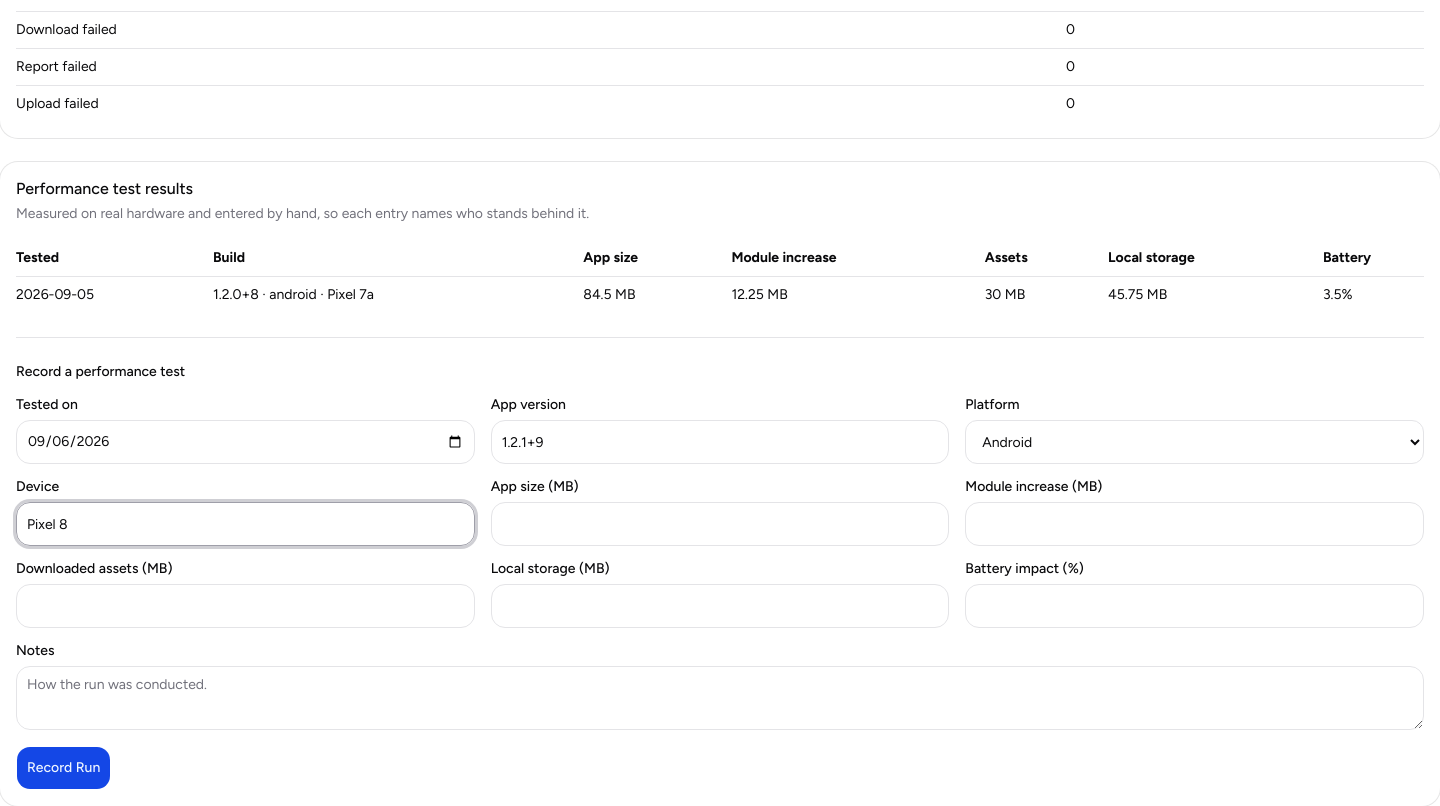
TechnicalDashboard › refuses a battery impact above a full charge
The image size is (1440, 806).
Earlier steps of the test are not shown.
(page scrolled)
Type "85" into the number field labelled "App size (MB)" at (720, 524), box [491,502,949,546]
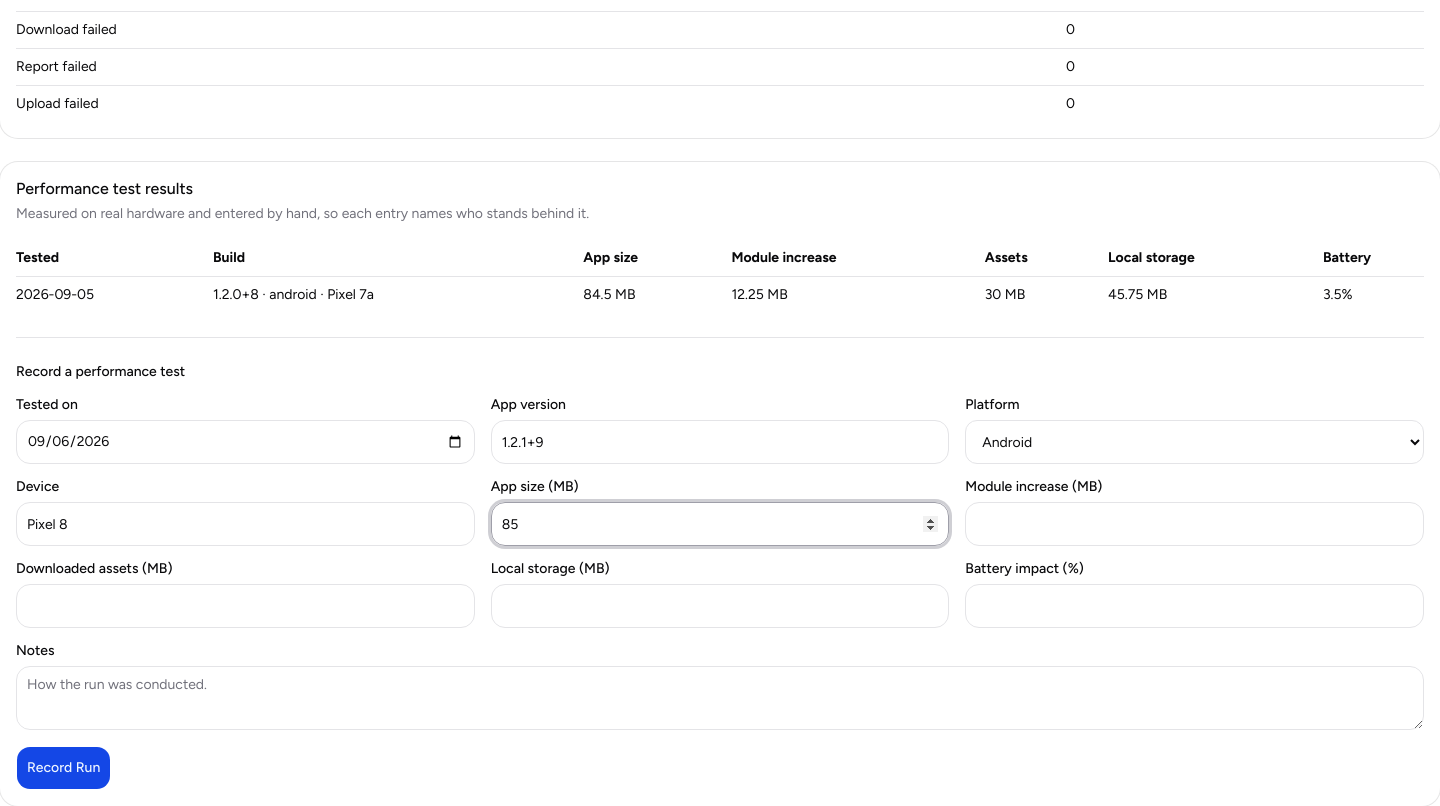
Type "12" into the number field labelled "Module increase (MB)" at (1195, 524), box [965,502,1424,546]
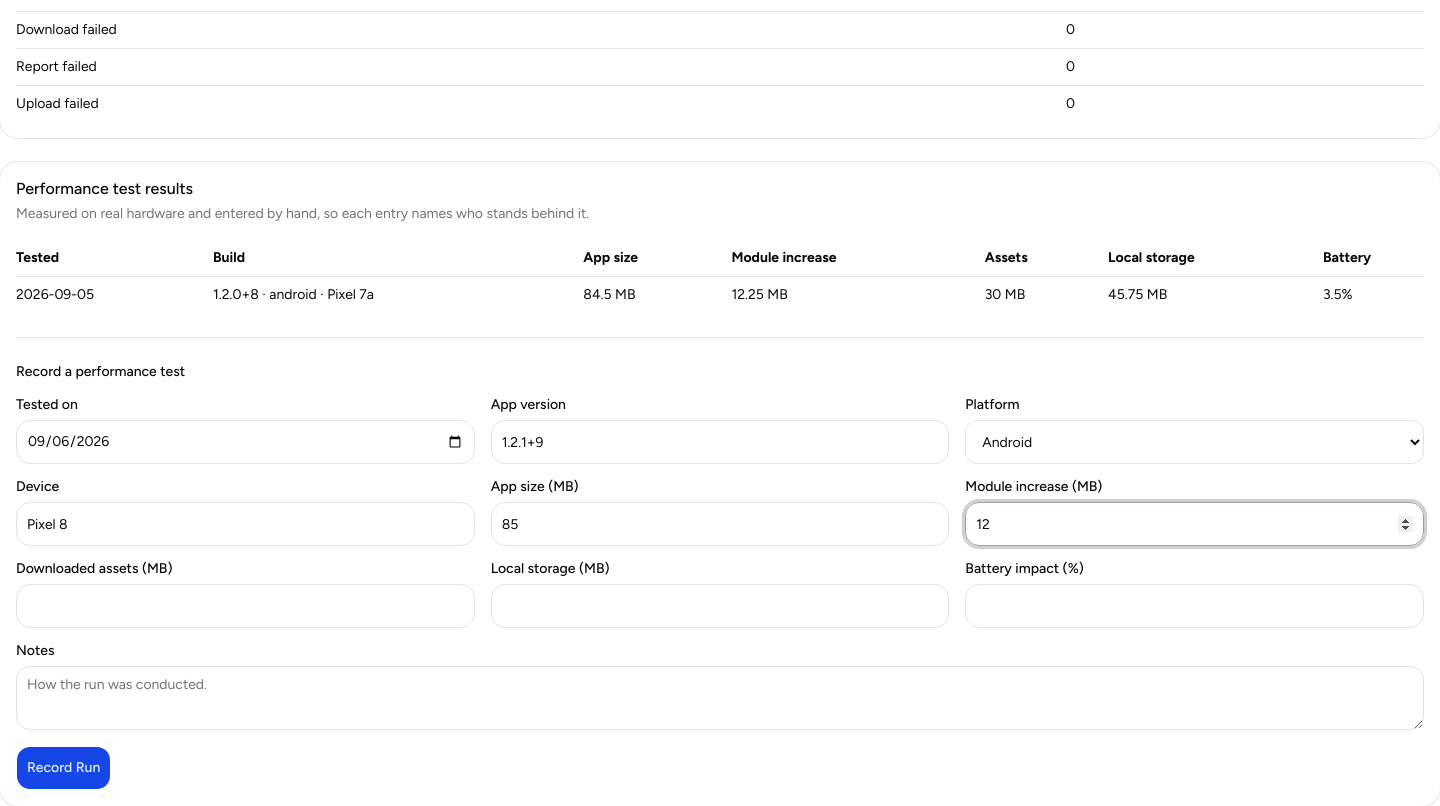
Type "30" into the number field labelled "Downloaded assets (MB)" at (245, 606), box [16,584,475,628]
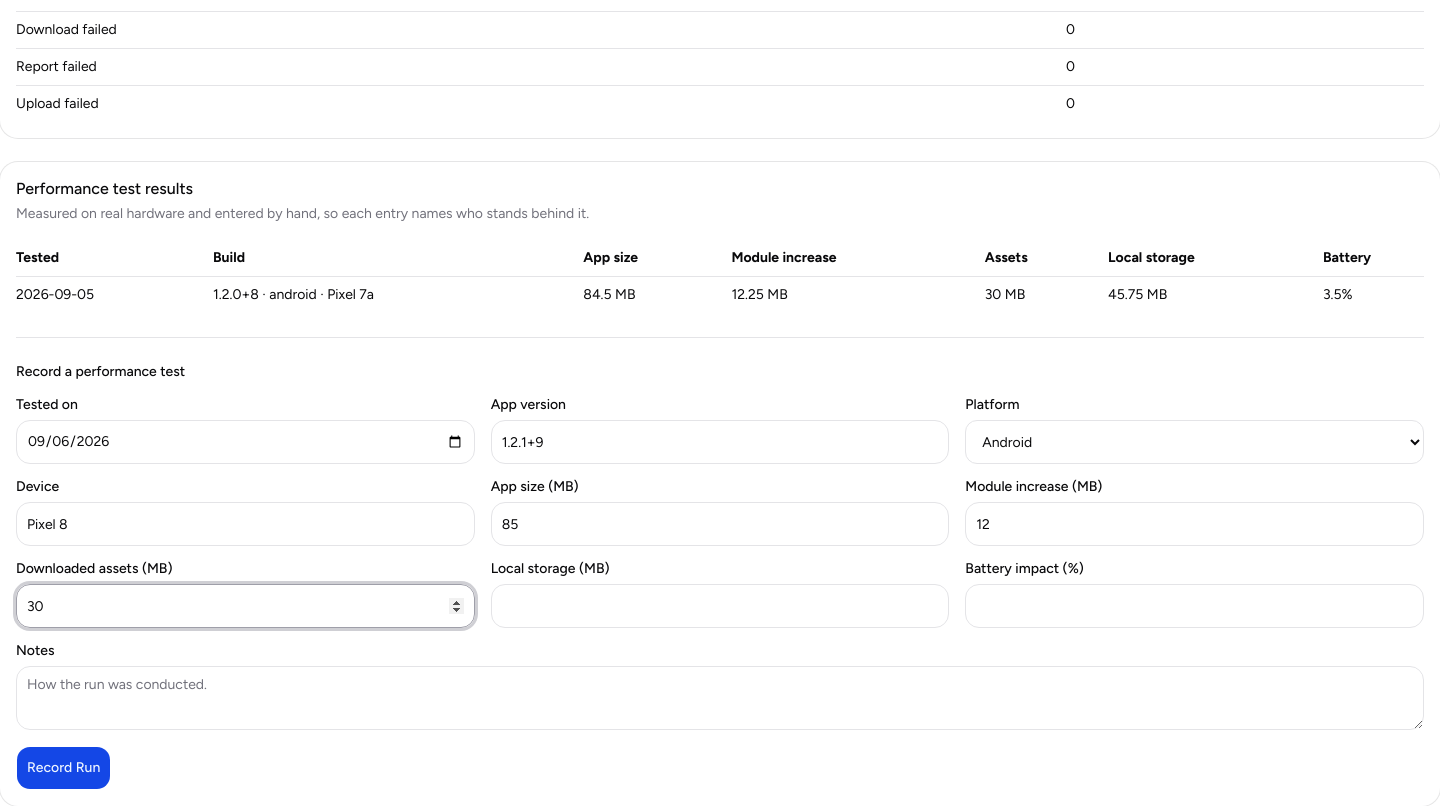
Type "40" into the number field labelled "Local storage (MB)" at (720, 606), box [491,584,949,628]
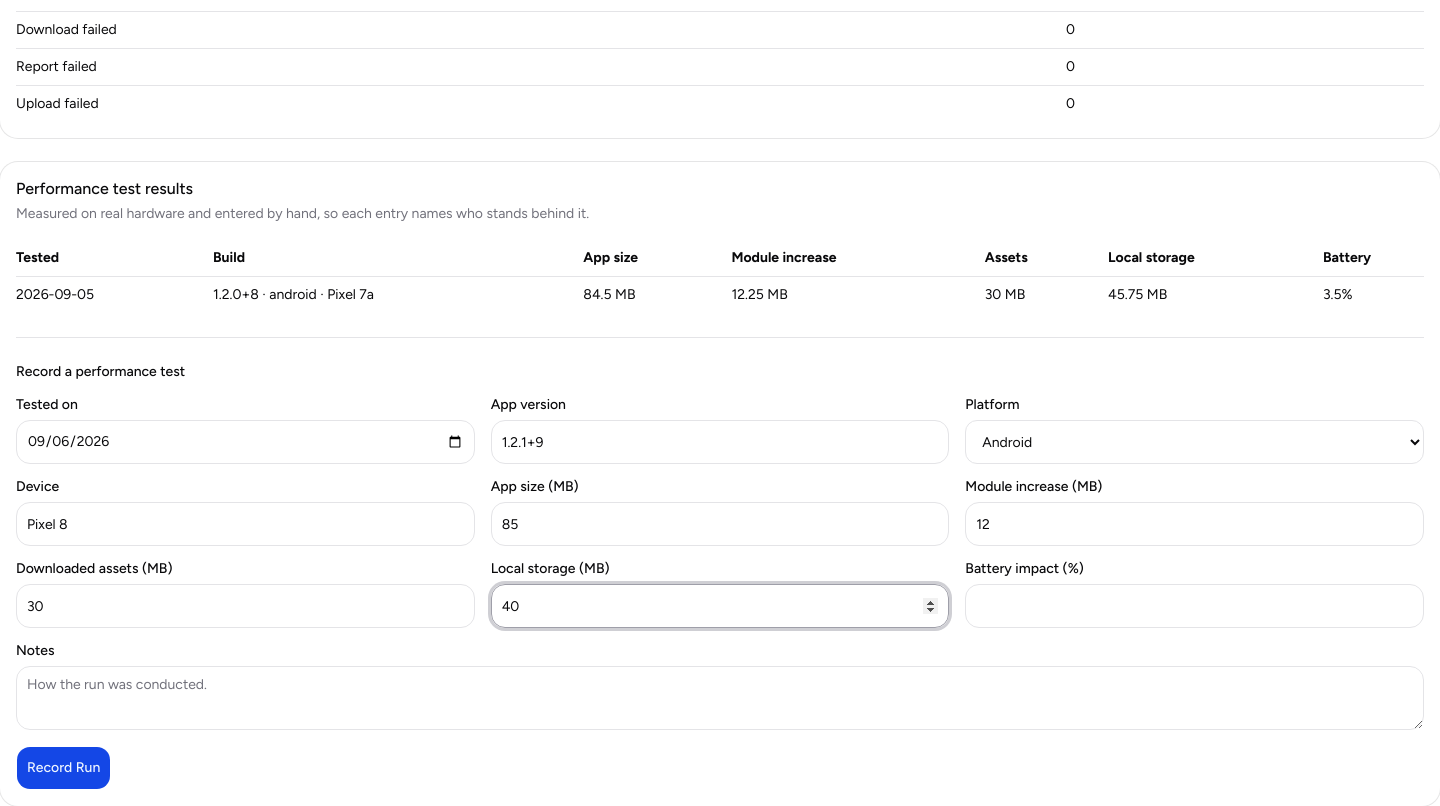
Type "140" into the number field labelled "Battery impact (%)" at (1195, 606), box [965,584,1424,628]
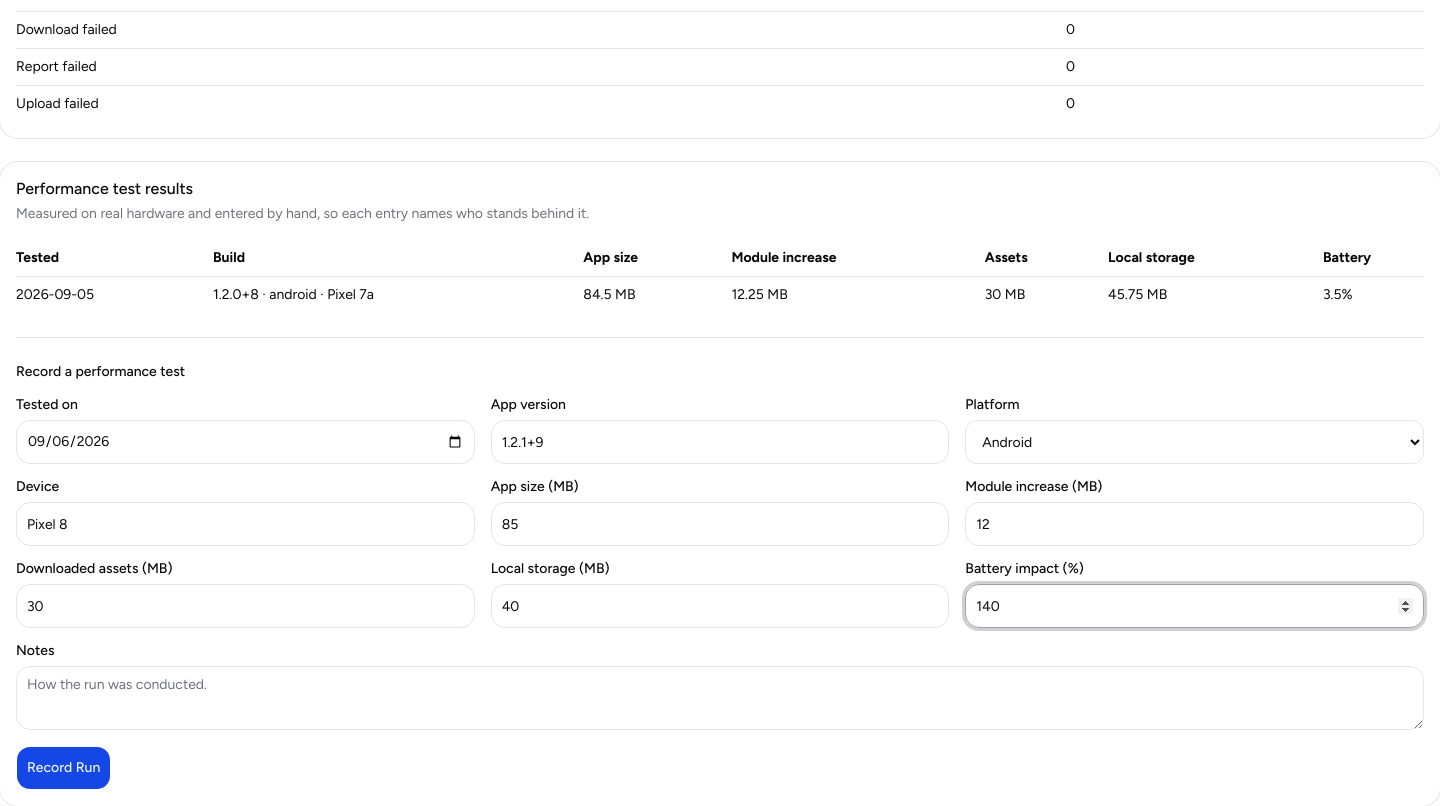
Click the button "Record Run" at (64, 768), box [16,746,111,790]
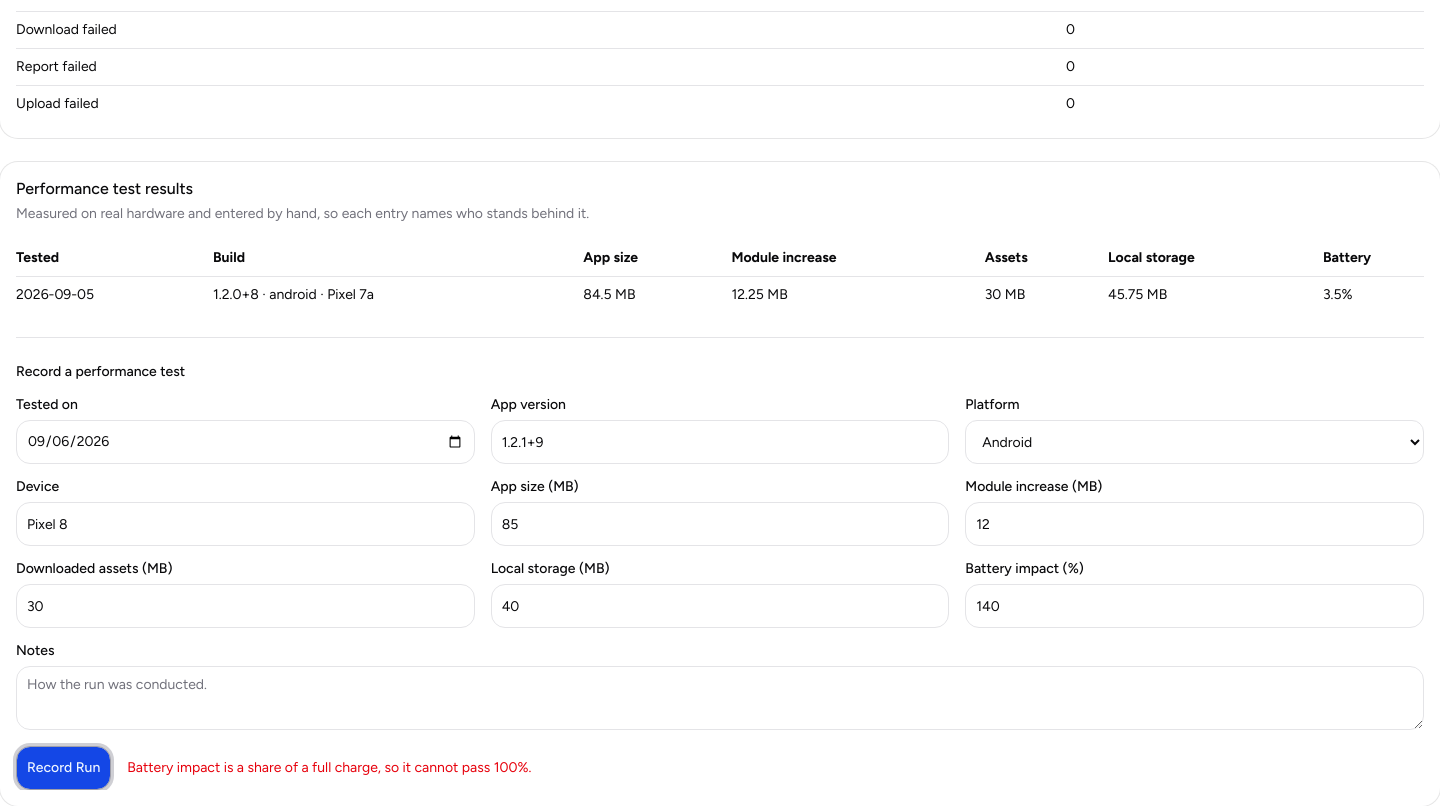
Check: the message shows "cannot pass 100%", box [127,759,531,776]
